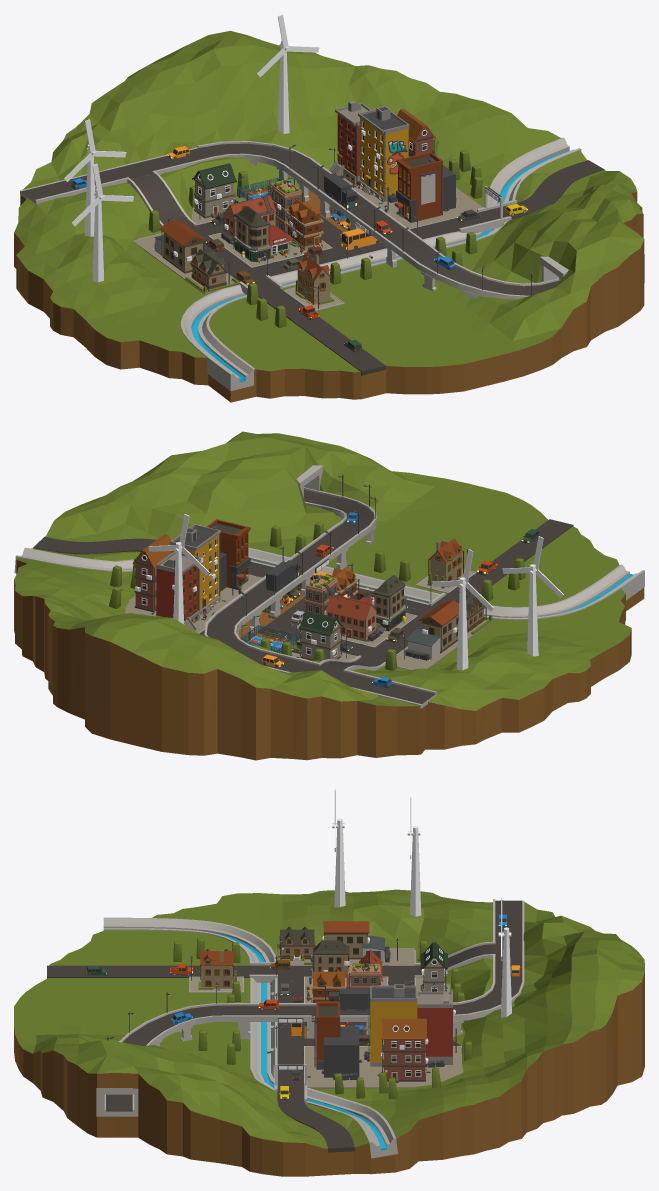
File: city.glb
The picture shows the model from 3 angles, top to bottom: view 1: azimuth 30°, elevation 25°; view 2: azimuth 150°, elevation 25°; view 3: azimuth 270°, elevation 25°; orthographic projection. The views are drawn at different scales.
Visible parts, largest first — view 1: Plane1145_green2_0, Plane1145_dirt_0, Line459_concret_0, Plane063_asphalt_0, Box16203_wall10_0, Rectangle036_asphalt_0, Rectangle034_asphalt_0, Line454_asphalt_0, Rectangle008_asphalt_0, Rectangle034_concret_0, Rectangle038_asphalt_0, Plane1167_sidewalk_0 (+15 smaller); view 2: Plane1145_green2_0, Plane1145_dirt_0, Line459_concret_0, Plane063_asphalt_0, Rectangle036_asphalt_0, Rectangle008_asphalt_0, Line454_asphalt_0, Box16216_Meat_0, Rectangle034_asphalt_0, Rectangle008_concret_0, Box16203_wall10_0, Rectangle035_asphalt_0 (+14 smaller); view 3: Plane1145_green2_0, Plane1145_dirt_0, Line459_concret_0, Plane063_asphalt_0, Plane1167_sidewalk_0, Line454_asphalt_0, Rectangle036_asphalt_0, Box12217_black_0, Box16216_Meat_0, Box16203_wall10_0, Rectangle034_asphalt_0, Line462_water_0 (+15 smaller).
Part boxes in pixels (box(x1,y1,x2,y2)): Plane1145_green2_0: box(14, 31, 643, 372); Plane1145_dirt_0: box(14, 124, 644, 402); Line459_concret_0: box(180, 137, 581, 390); Plane063_asphalt_0: box(190, 213, 488, 375); Box16203_wall10_0: box(360, 117, 408, 197); Rectangle036_asphalt_0: box(21, 148, 209, 201); Rectangle034_asphalt_0: box(397, 240, 559, 295); Line454_asphalt_0: box(478, 160, 604, 220); Rectangle008_asphalt_0: box(288, 161, 418, 245); Rectangle034_concret_0: box(393, 238, 558, 299); Rectangle038_asphalt_0: box(131, 174, 193, 226); Plane1167_sidewalk_0: box(327, 169, 482, 228); Plane1145_green2_0: box(14, 431, 631, 710); Plane1145_dirt_0: box(14, 559, 644, 760); Line459_concret_0: box(14, 547, 644, 620); Plane063_asphalt_0: box(199, 519, 573, 662); Rectangle036_asphalt_0: box(250, 651, 435, 703); Rectangle008_asphalt_0: box(217, 536, 346, 620); Line454_asphalt_0: box(33, 537, 155, 554); Box16216_Meat_0: box(156, 565, 198, 619); Rectangle034_asphalt_0: box(304, 490, 374, 541); Rectangle008_concret_0: box(215, 534, 350, 624); Box16203_wall10_0: box(171, 534, 219, 610); Rectangle035_asphalt_0: box(207, 615, 259, 658); Plane1145_green2_0: box(14, 889, 644, 1148); Plane1145_dirt_0: box(14, 893, 644, 1176); Line459_concret_0: box(103, 917, 397, 1158); Plane063_asphalt_0: box(47, 965, 460, 1082); Plane1167_sidewalk_0: box(305, 1046, 463, 1089); Line454_asphalt_0: box(277, 1083, 354, 1152); Rectangle036_asphalt_0: box(493, 900, 522, 983); Box12217_black_0: box(324, 1026, 359, 1077); Box16216_Meat_0: box(417, 1008, 452, 1056); Box16203_wall10_0: box(370, 1002, 417, 1062); Rectangle034_asphalt_0: box(123, 1005, 233, 1045); Line462_water_0: box(216, 933, 387, 1150).
Bounding box in the file's own units: 137 × 41.23 × 141.
